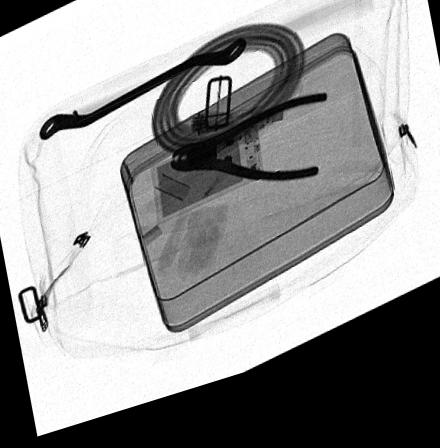Pliers: (167, 108, 327, 196)
Powerbank: (149, 131, 261, 232)
Wrench: (36, 50, 245, 143)
